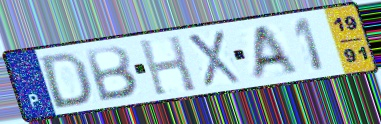1: (293, 15, 326, 75)
A: (249, 23, 301, 83)
B: (83, 44, 141, 104)
D: (39, 50, 94, 111)
H: (136, 33, 200, 98)
X: (183, 28, 244, 89)
